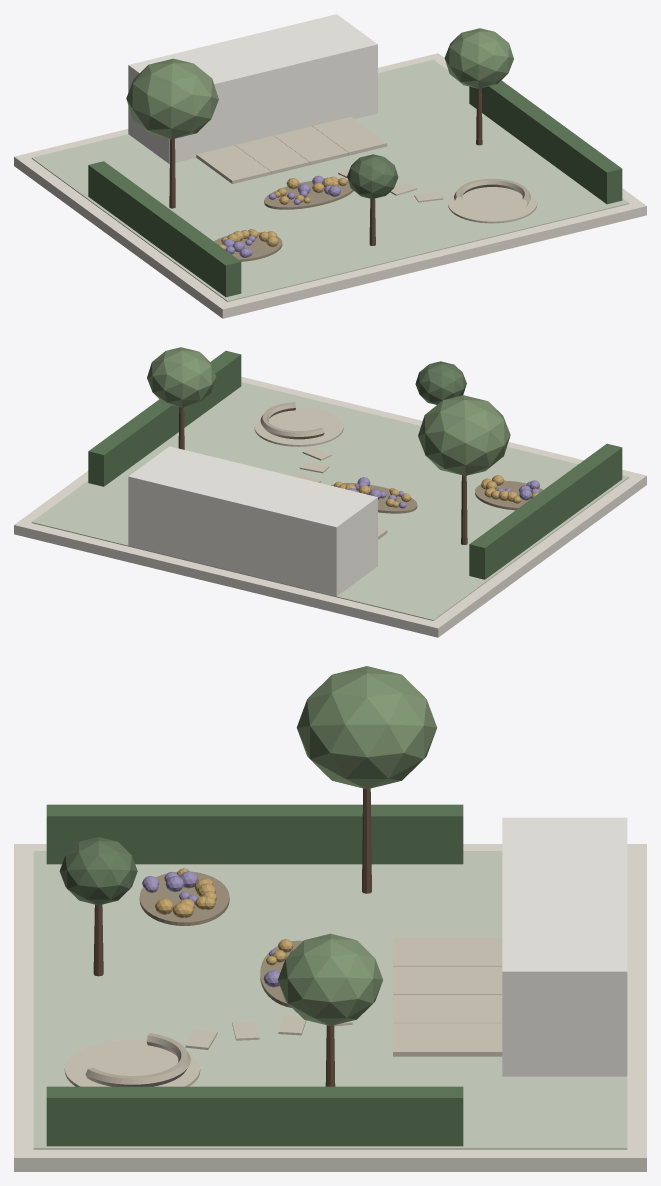
Rendered from garden-model.glb.
3 views of the same model, one above another, from view 1: azimuth 30°, elevation 25°; view 2: azimuth 150°, elevation 25°; view 3: azimuth 270°, elevation 25° (orthographic). The views are drawn at different scales.
Visible parts, largest first — view 1: lawn, house, hedge, base, stone, crown, crownDark, bed, brass, trunk, lavender, stoneDark; view 2: lawn, house, base, hedge, crown, stone, crownDark, bed, brass, stoneDark, lavender, trunk; view 3: lawn, hedge, house, base, crown, stone, crownDark, bed, stoneDark, trunk, brass, lavender.
Part boxes in pixels (x1,y1,x2,y2): lawn: (31, 59, 629, 301); house: (128, 14, 377, 164); hedge: (88, 80, 622, 297); base: (14, 53, 646, 318); stone: (196, 117, 537, 223); crown: (126, 28, 513, 139); crownDark: (347, 154, 398, 199); bed: (214, 179, 353, 261); brass: (219, 176, 347, 249); trunk: (169, 88, 482, 245); lavender: (222, 175, 340, 257); stoneDark: (235, 126, 530, 206); lawn: (31, 382, 629, 620); house: (128, 446, 377, 596); base: (14, 376, 646, 637); hedge: (88, 350, 622, 579); crown: (147, 347, 510, 475); stone: (254, 407, 387, 539); crownDark: (415, 361, 466, 404); bed: (330, 480, 542, 513); brass: (334, 475, 538, 507); stoneDark: (260, 402, 324, 439); lavender: (348, 477, 539, 508); trunk: (178, 407, 467, 544); lawn: (33, 851, 627, 1149); hedge: (46, 804, 463, 1146); house: (502, 817, 627, 1076); base: (14, 844, 646, 1171); crown: (278, 666, 437, 1025); stone: (64, 937, 502, 1086); crownDark: (59, 837, 137, 905); bed: (139, 871, 302, 1007); stoneDark: (85, 965, 502, 1086); trunk: (93, 788, 371, 1086); brass: (155, 868, 293, 965); lavender: (142, 871, 294, 987).
Size of the model in its own units: 19 by 6.6 by 16.2.
